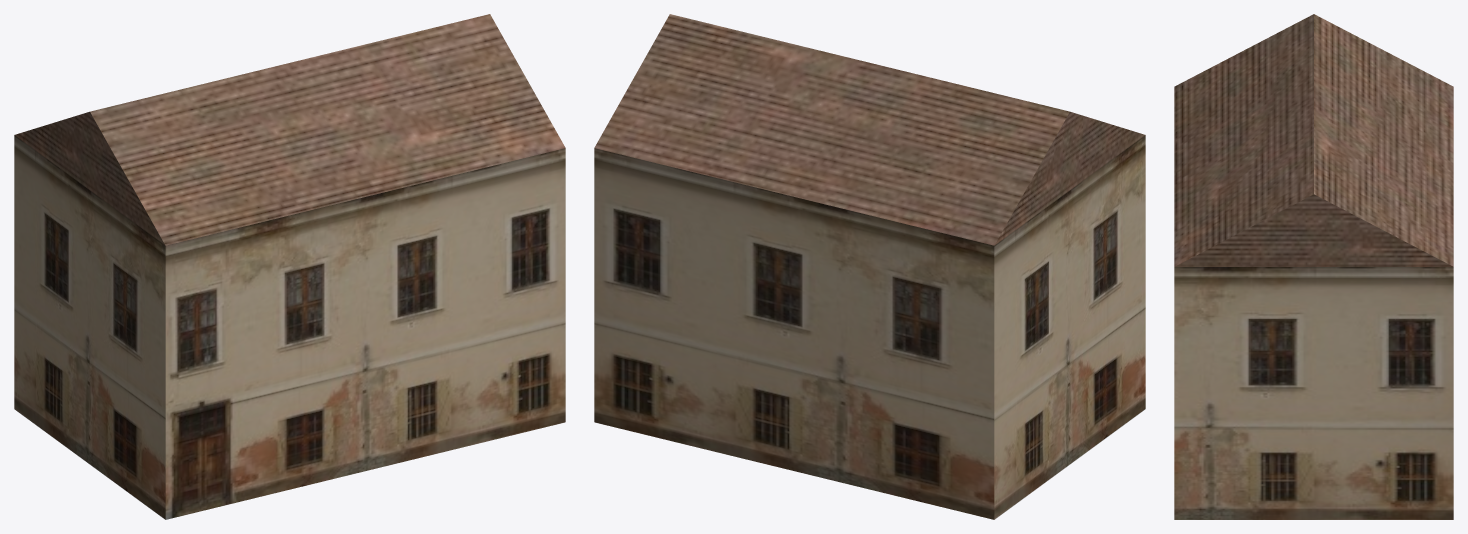
Rendered from building.house_14.glb.
3 views of the same model, side by side, from view 1: azimuth 30°, elevation 25°; view 2: azimuth 150°, elevation 25°; view 3: azimuth 270°, elevation 25° (orthographic). The views are drawn at different scales.
Parts seen in each view (by area): view 1: Cube002; view 2: Cube002; view 3: Cube002.
Boxes of the visible parts, box(x1,y1,x2,y2) form: Cube002: box(14, 14, 565, 519); Cube002: box(594, 14, 1145, 519); Cube002: box(1174, 14, 1453, 519).
Size of the model in its own units: 2.74 by 2.31 by 1.8.
Materials: 1 (1 with a texture image).
